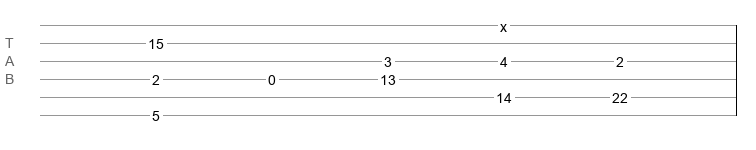0: (268, 72, 276, 82)
13: (380, 72, 396, 82)
14: (496, 90, 512, 100)
15: (148, 36, 164, 46)
2: (152, 72, 160, 82), (616, 54, 624, 64)
22: (612, 90, 628, 100)
3: (384, 54, 392, 64)
4: (500, 54, 508, 64)
5: (152, 108, 160, 118)
x: (500, 19, 507, 27)
